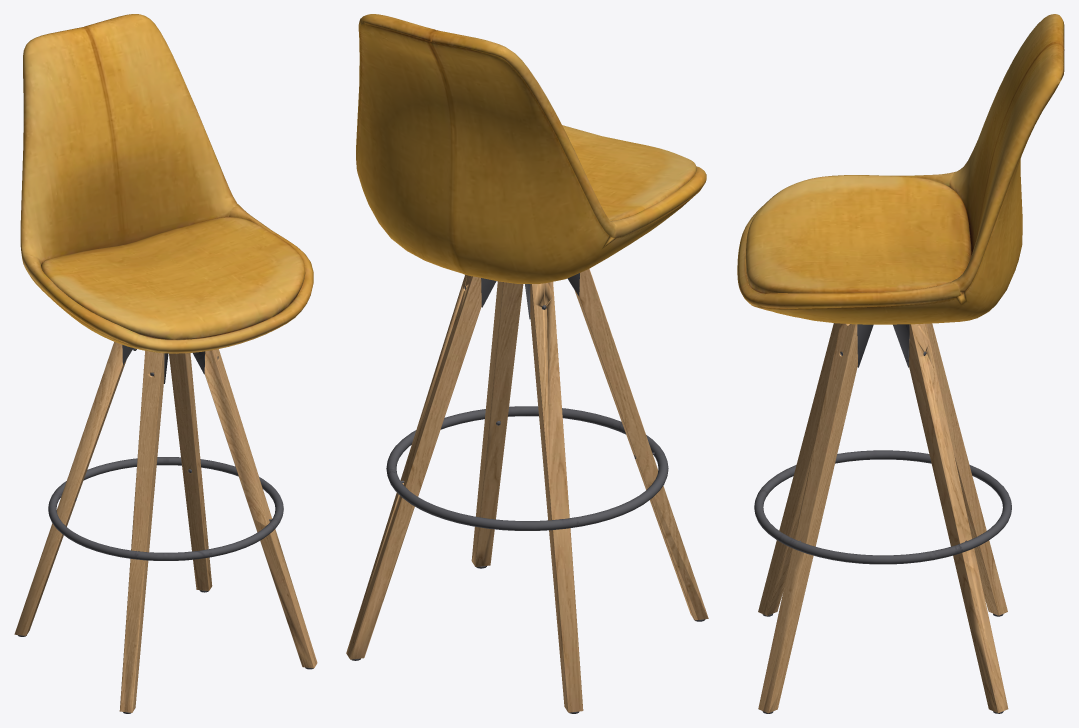
Rendered from office-stool.glb.
3 renders of one model, left to right at view 1: azimuth 30°, elevation 25°; view 2: azimuth 150°, elevation 25°; view 3: azimuth 270°, elevation 25°, orthographic. The views are drawn at different scales.
Parts seen in each view (by area): view 1: defaultMaterial (×3); view 2: defaultMaterial (×3); view 3: defaultMaterial (×3).
Part boxes in pixels (x1,y1,x2,y2): defaultMaterial (×3): (14,14,317,713); defaultMaterial (×3): (346,14,708,713); defaultMaterial (×3): (737,14,1064,713).
Size of what is drawn, in the model's own units: 0.8599 by 2 by 0.9542.
Materials: 3 (3 with a texture image).
